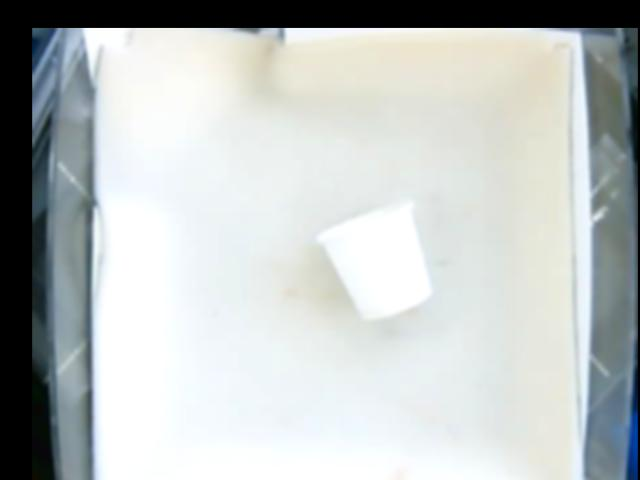Cup: (318, 201, 432, 319)
